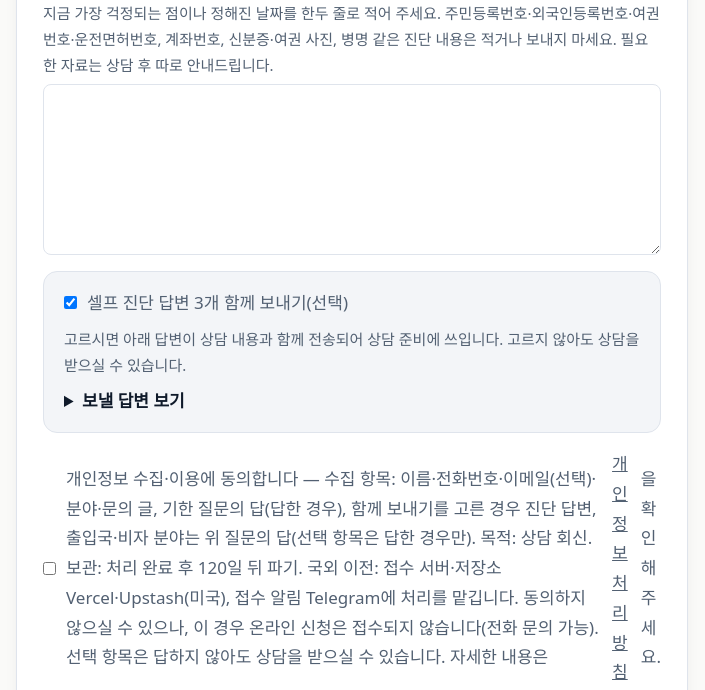
Test case: 상담 폼 제출 (개업 후 상태 모킹) › 함께 보내기를 해제하면 진단 답변과 진단 경로를 보내지 않는다
The image size is (705, 690).
(page scrolled)
Click the checkbox labelled "셀프 진단 답변 3개 함께 보내기(선택)".
click(70, 303)  # box [64, 296, 77, 310]
(page scrolled)
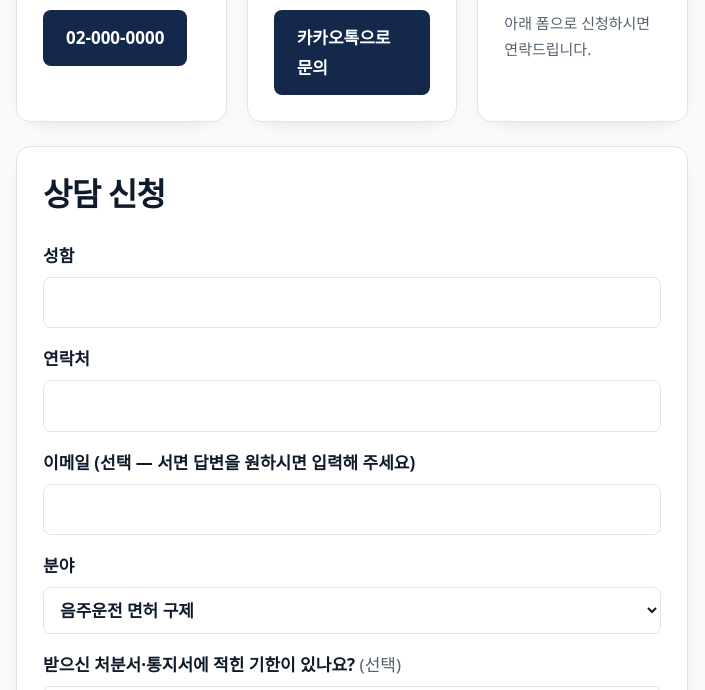
Type "홍길동" into the field labelled "성함".
click(352, 302); type("홍길동")  # box [43, 277, 661, 328]
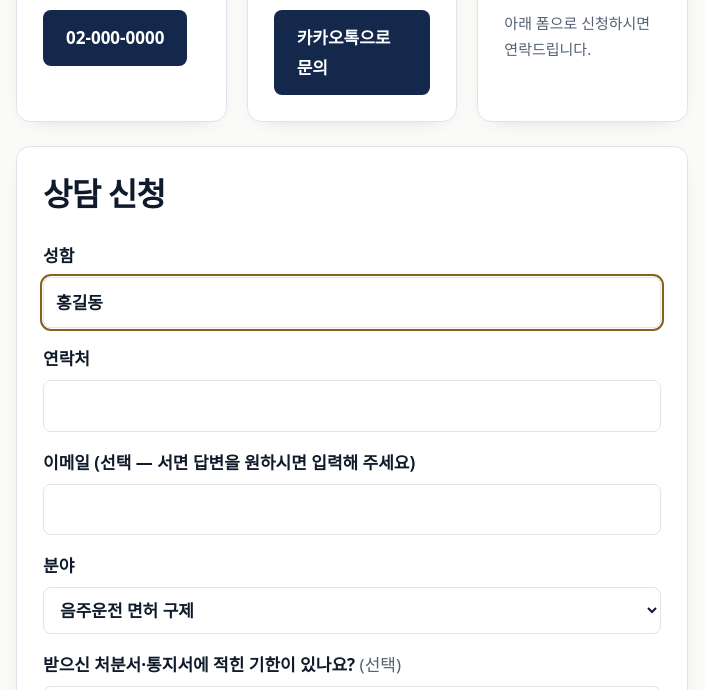
Type "01012345678" into the field labelled "연락처".
click(352, 406); type("01012345678")  # box [43, 380, 661, 432]
(page scrolled)
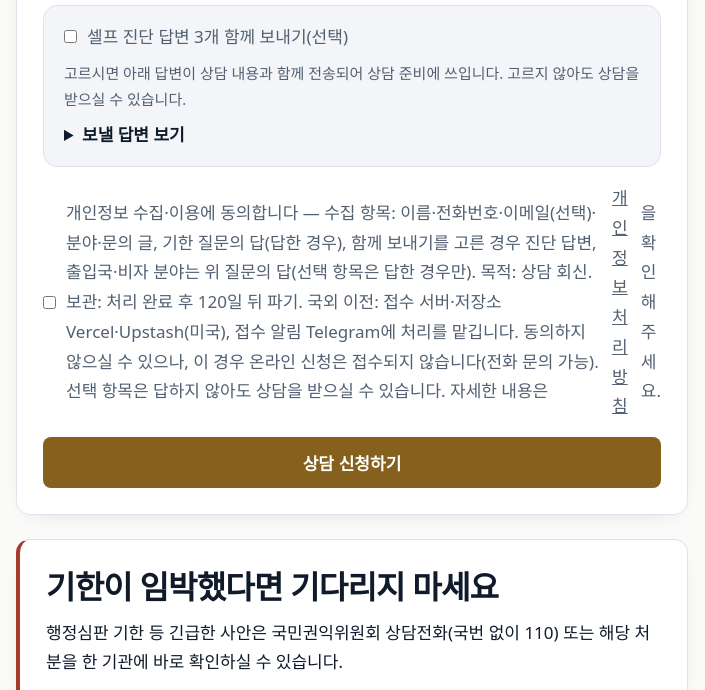
Click the checkbox labelled "개인정보 수집·이용에 동의".
click(50, 302)  # box [43, 296, 56, 309]
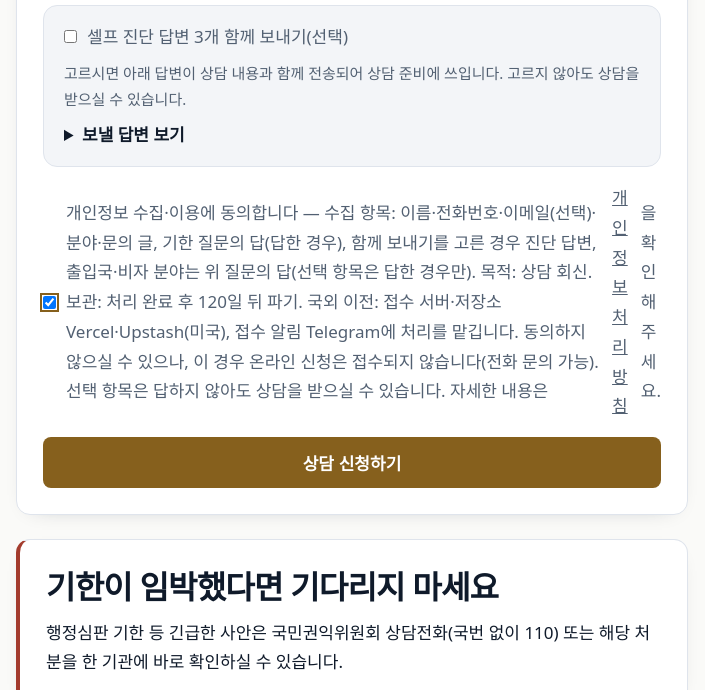
Click the button "상담 신청하기".
click(352, 463)  # box [43, 437, 661, 488]
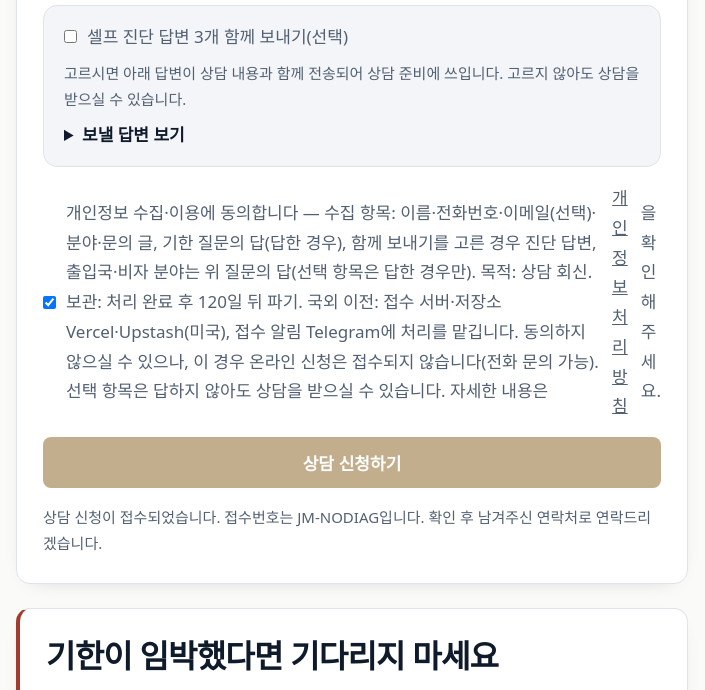
expect the text "JM-NODIAG" is shown: met, box [220, 507, 424, 527]
